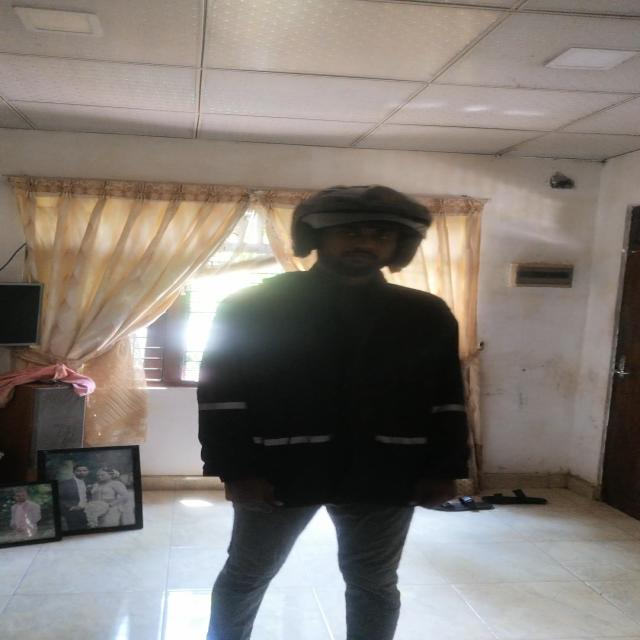Helmet_Wearer: (280, 184, 431, 294)
Jacket_Wearer: (195, 266, 472, 520)
Person: (196, 186, 478, 640)
